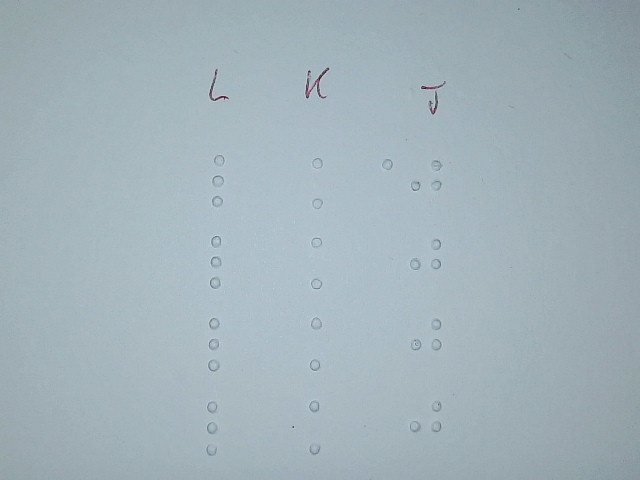J: (407, 151, 445, 206), (408, 231, 443, 285), (409, 310, 444, 364), (408, 393, 443, 447)
K: (303, 153, 346, 213), (302, 232, 345, 292), (302, 313, 345, 373), (300, 397, 343, 457)
L: (203, 150, 246, 210), (203, 232, 246, 292), (199, 314, 242, 374), (198, 398, 241, 458)
